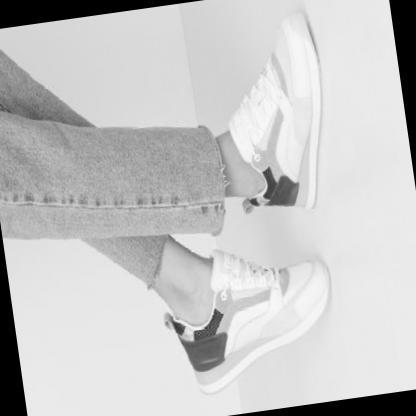ankle: (211, 319, 214, 323), (267, 182, 270, 186)
heel: (195, 366, 198, 370), (290, 199, 293, 203)
left_foot: (224, 10, 339, 216)
pinky: (301, 261, 303, 264), (295, 73, 297, 76)
right_foot: (178, 242, 344, 396)
toe: (282, 28, 285, 32), (320, 288, 323, 291)
